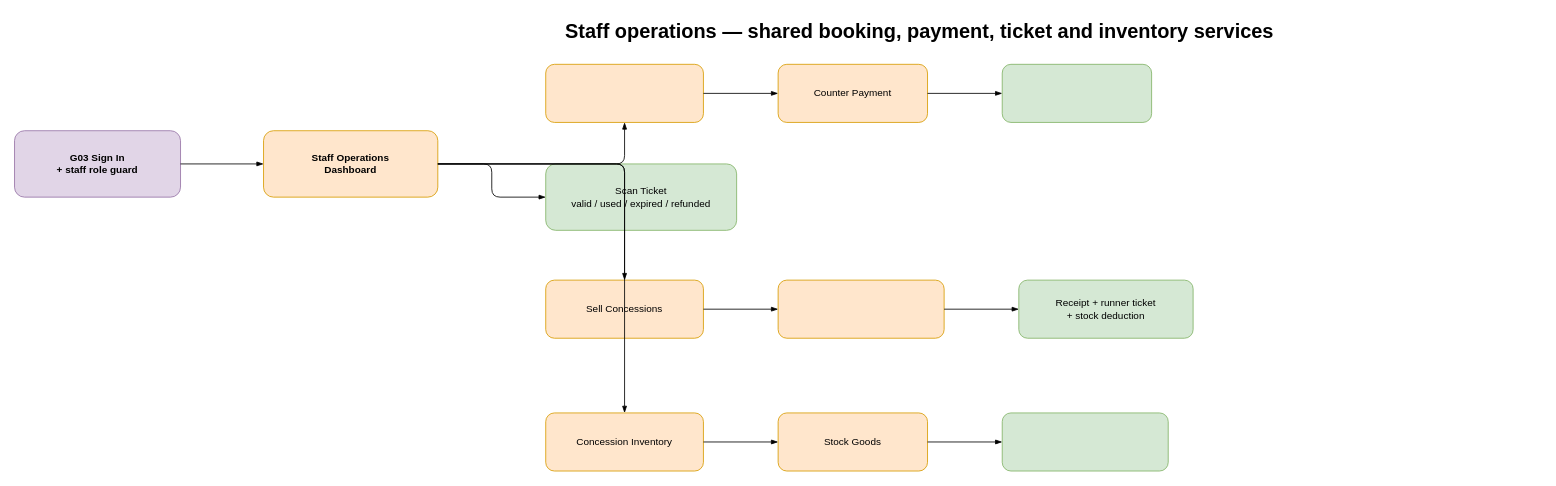
The diagram is 1556 pixels wide and 486 high, and some of its shapes have lost their labels. Each missing label, with the centre of its shape:
Counter Concession Payment: pixel 860 308
Print Ticket & Invoice: pixel 1076 92
Sell Tickets at Counter: pixel 624 92
Updated inventory & stock ledger: pixel 1084 441
